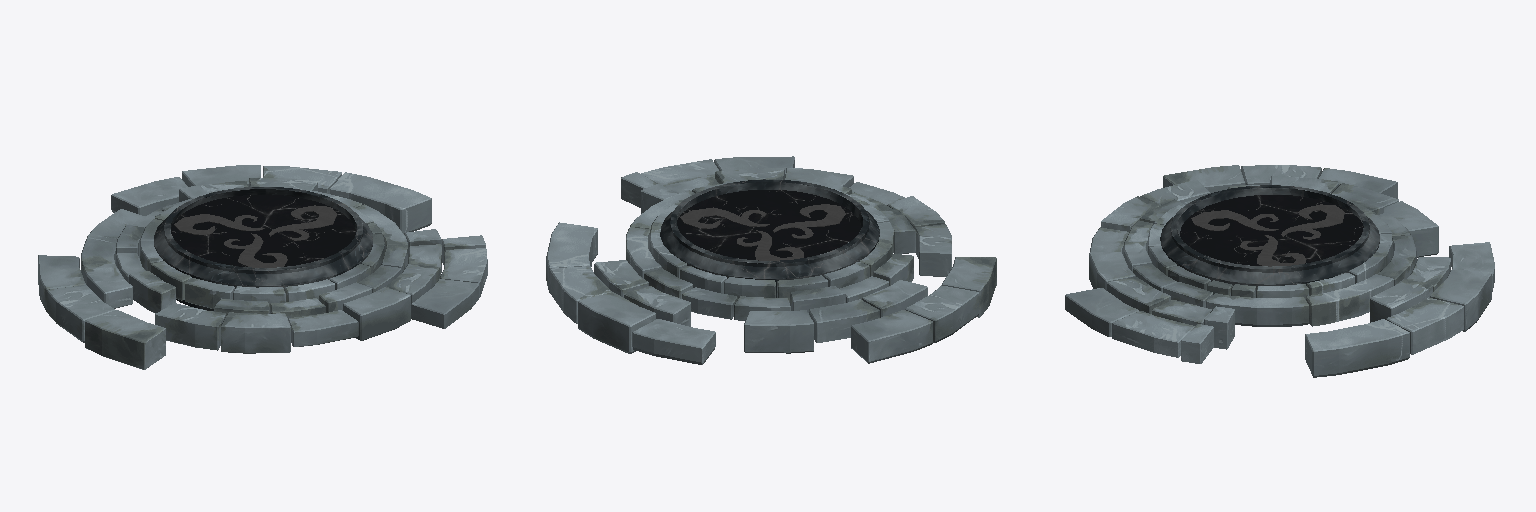
3 renders of one model, left to right at view 1: azimuth 30°, elevation 25°; view 2: azimuth 150°, elevation 25°; view 3: azimuth 270°, elevation 25°, orthographic.
Visible parts, largest first — view 1: t_podest; view 2: t_podest; view 3: t_podest.
Part boxes in pixels (left/top/right/bottom): t_podest: left=38, top=165, right=487, bottom=369; t_podest: left=546, top=156, right=996, bottom=364; t_podest: left=1065, top=165, right=1494, bottom=377.
Size of the model in its own units: 40.94 by 6.16 by 39.61.
3 materials, 3 textured.